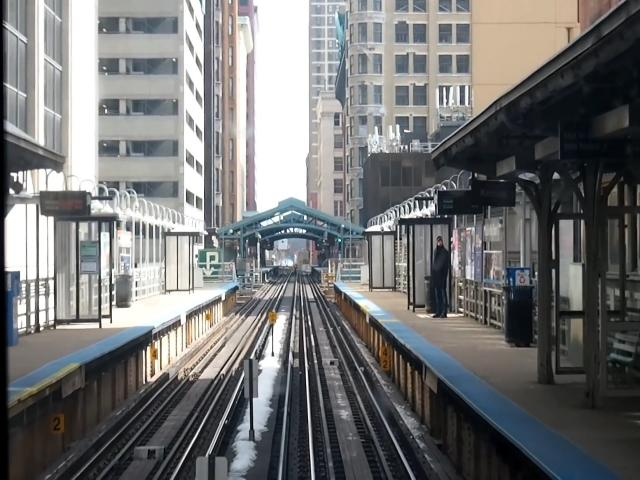signal light: (338, 239, 344, 254)
